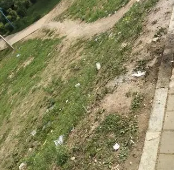garbage: (51, 131, 70, 150), (122, 70, 153, 79), (93, 61, 106, 76), (111, 142, 126, 153), (73, 81, 86, 90)
